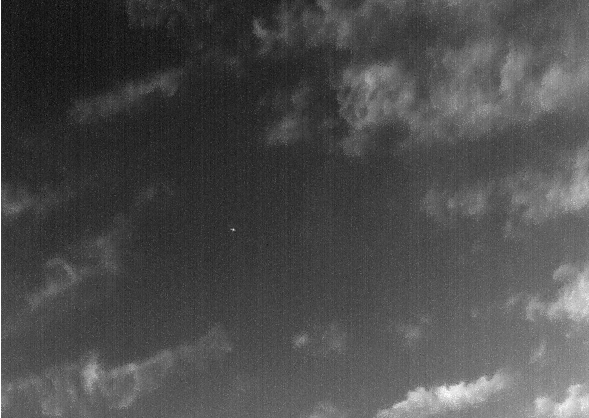dim target: (230, 227, 236, 232)
